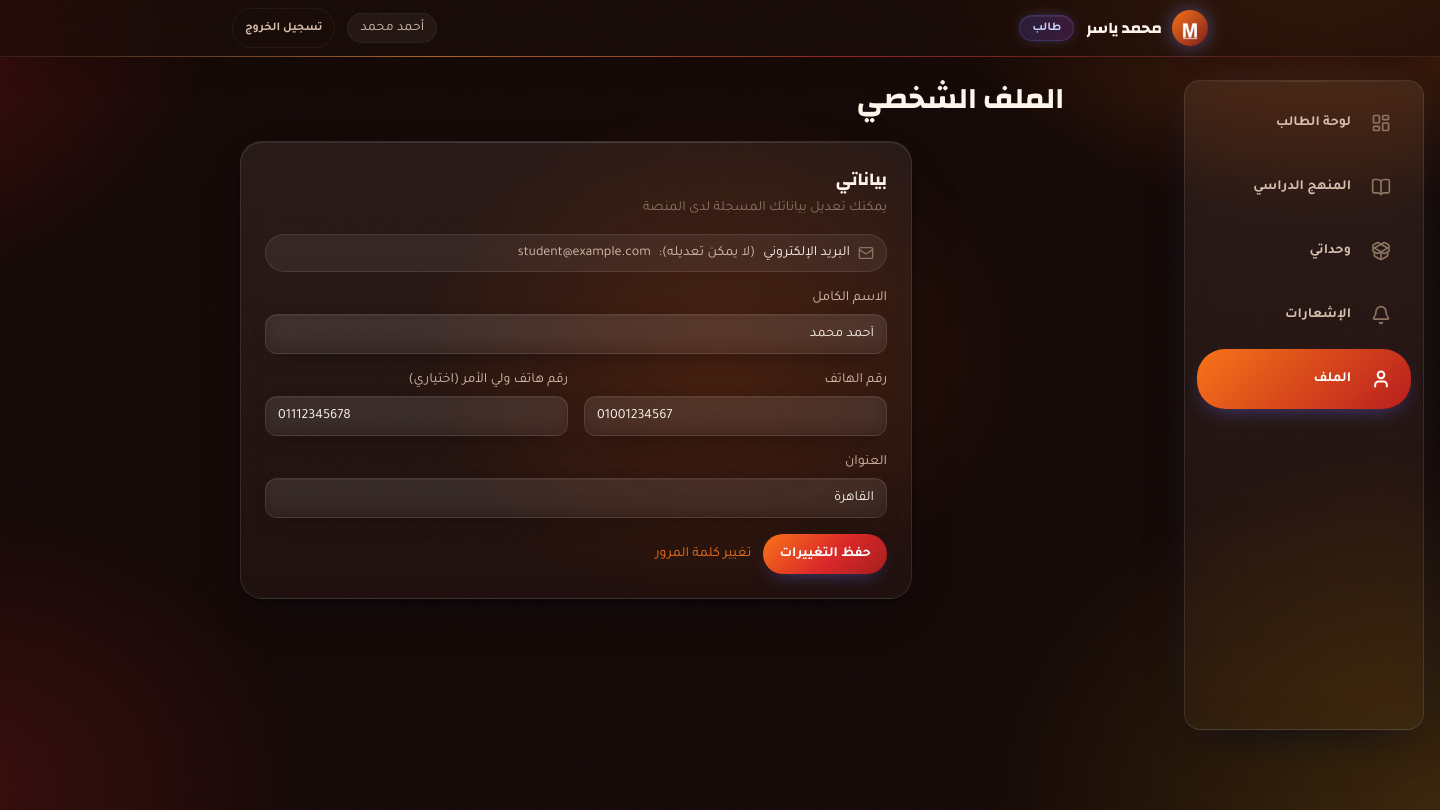
Test case: StudentProfilePage › updates the profile through update_own_profile and shows a success toast
This screenshot has width=1440, height=810.
Replace the text in the field labelled "الاسم الكامل" with "أحمد الجديد": (576,334) 265,314 -> 887,354
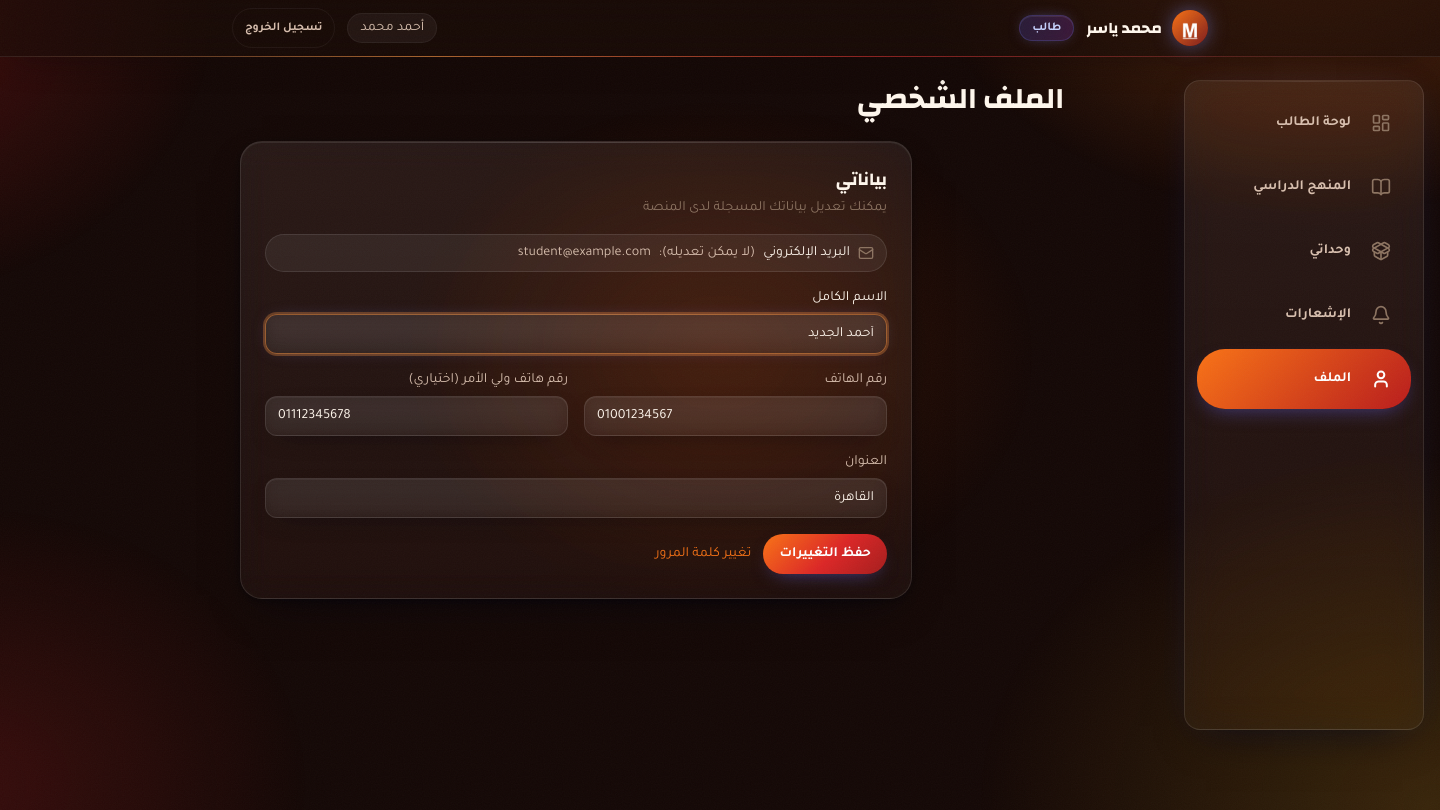
Click the button "حفظ التغييرات": (825,554) 763,534 -> 887,574
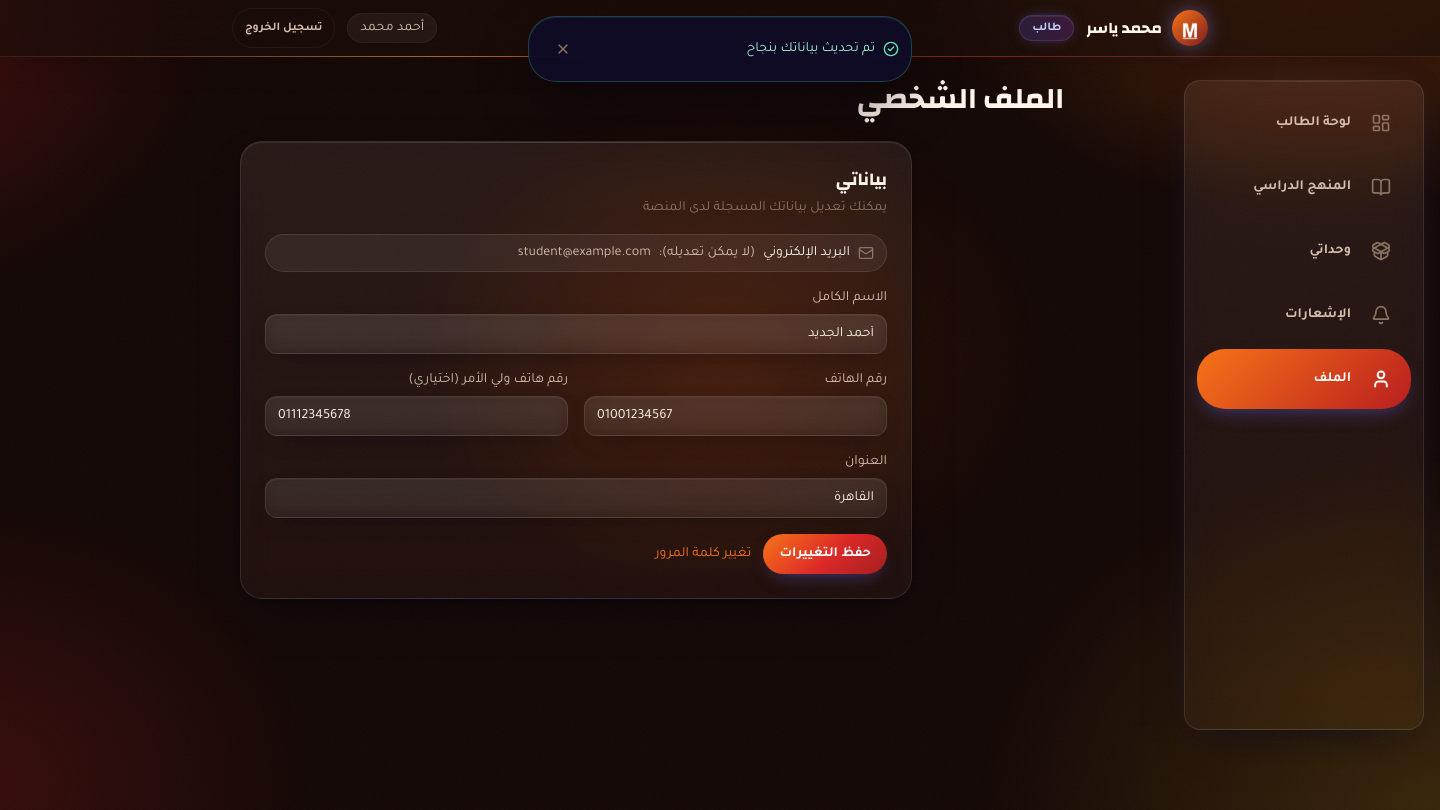
Check: the text "تم تحديث بياناتك بنجاح" is shown, box 746,42 -> 875,56
